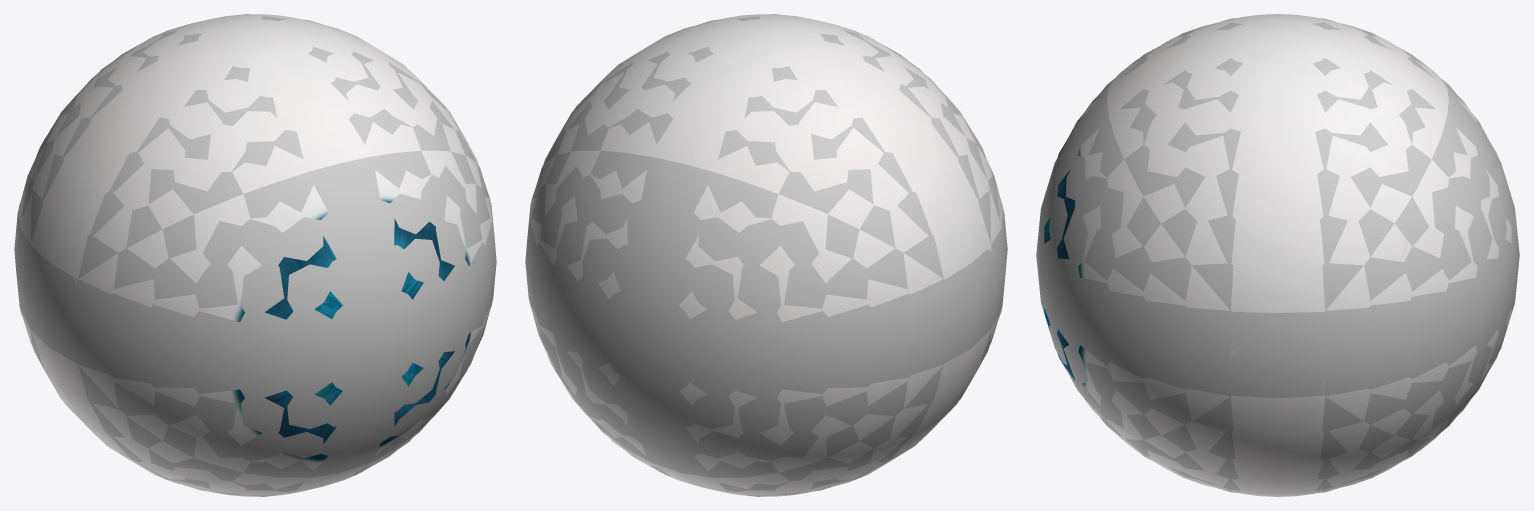
Rendered from eye_ball.fbx.
3 views of the same model, side by side, from view 1: azimuth 30°, elevation 25°; view 2: azimuth 150°, elevation 25°; view 3: azimuth 270°, elevation 25° (orthographic).
Parts seen in each view (by area): view 1: hp_eye_ball, lp_eye_ball; view 2: hp_eye_ball, lp_eye_ball; view 3: lp_eye_ball, hp_eye_ball.
Boxes of the visible parts, left/top/right/bottom form: hp_eye_ball: left=14, top=14, right=496, bottom=496; lp_eye_ball: left=18, top=14, right=492, bottom=496; hp_eye_ball: left=525, top=14, right=1007, bottom=496; lp_eye_ball: left=529, top=14, right=1003, bottom=496; lp_eye_ball: left=1044, top=14, right=1511, bottom=496; hp_eye_ball: left=1036, top=18, right=1519, bottom=492.
Bounding box in the file's own units: 20 × 20 × 20.
